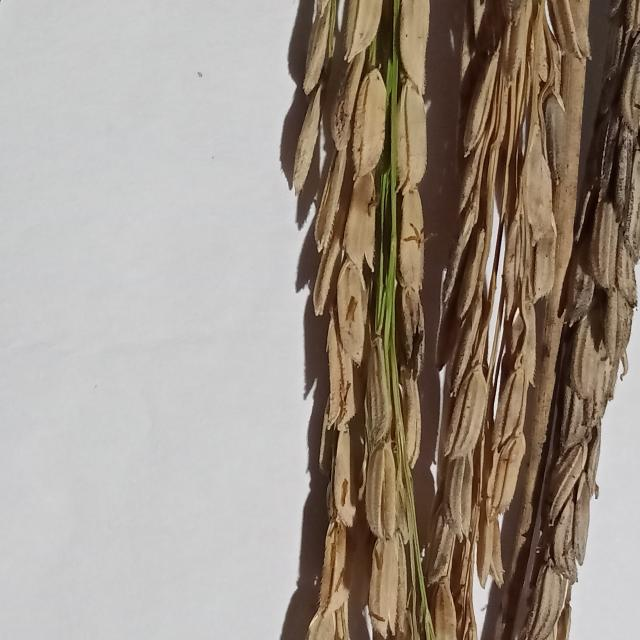Neck_Blast: (285, 2, 640, 640)
